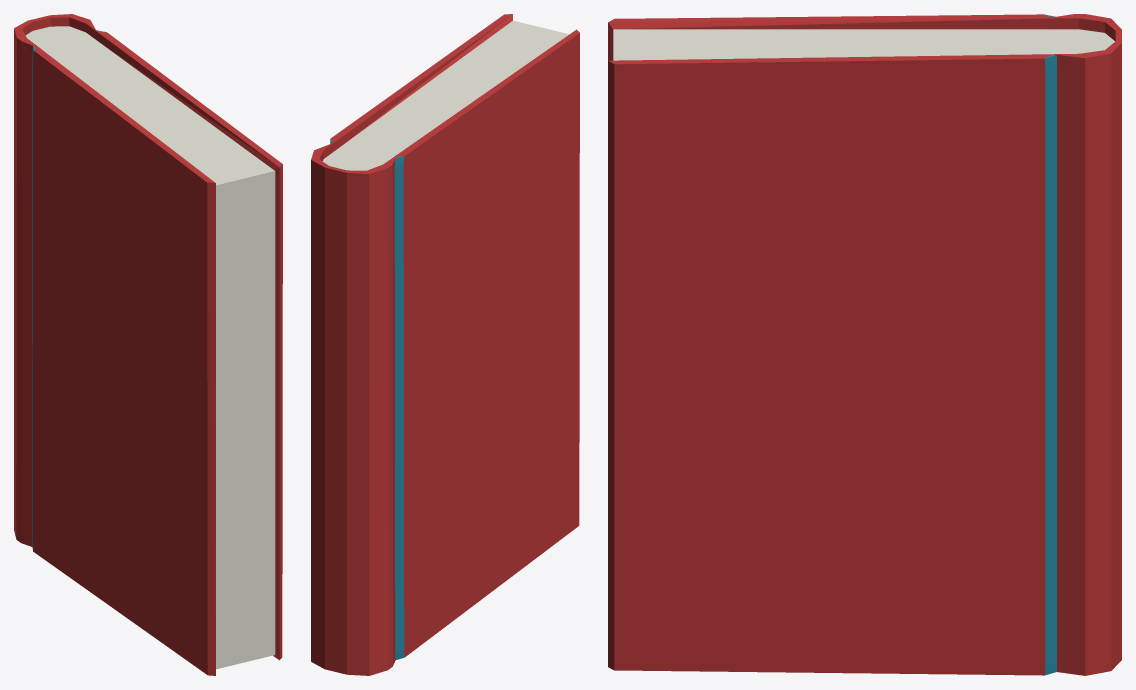
File: Book2.fbx
3 views of the same model, side by side, from view 1: azimuth 30°, elevation 25°; view 2: azimuth 150°, elevation 25°; view 3: azimuth 270°, elevation 25° (orthographic). The views are drawn at different scales.
Parts seen in each view (by area): view 1: pCube7; view 2: pCube7; view 3: pCube7.
Part boxes in pixels (bbox=[...]): pCube7: bbox=[14, 14, 282, 675]; pCube7: bbox=[311, 14, 579, 675]; pCube7: bbox=[608, 14, 1121, 675].
Size of the model in its own units: 1.03 by 6.53 by 4.93.
